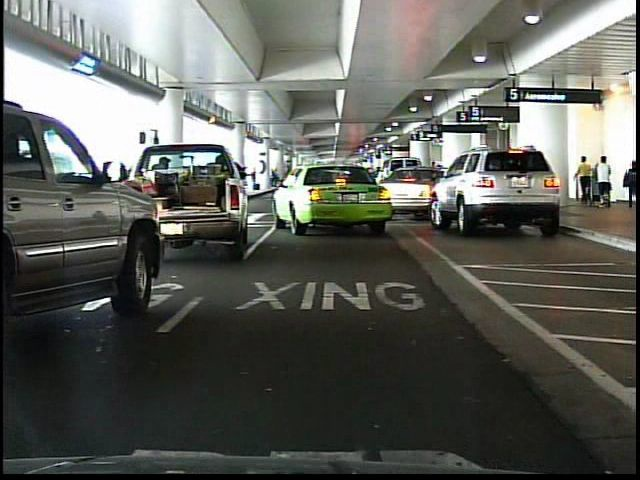person: (596, 152, 615, 208), (618, 159, 636, 211), (577, 156, 594, 206)
